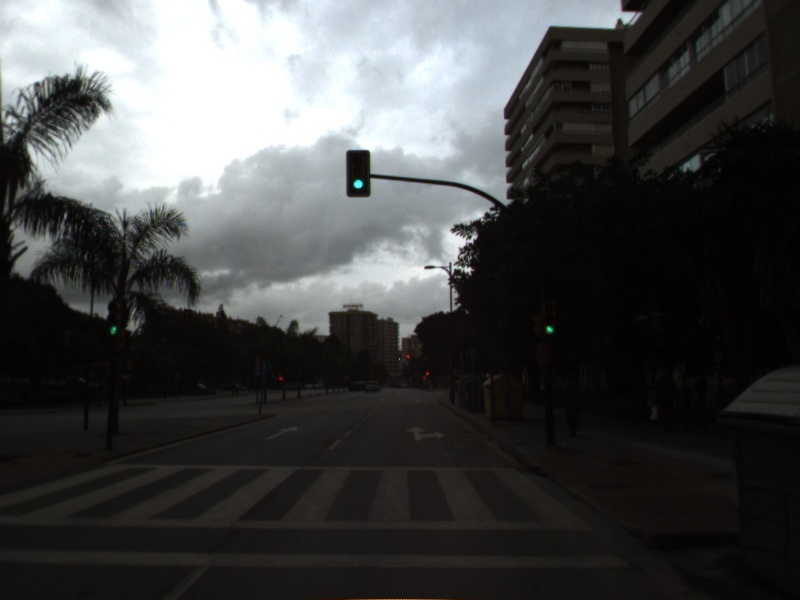STRAIGHT: (263, 424, 300, 441)
STRAIGHT_RIGHT: (403, 424, 448, 443)
